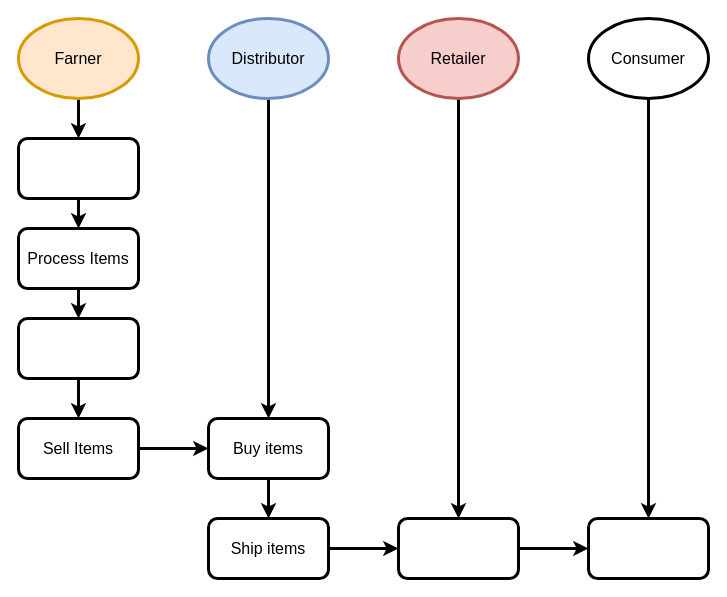
This 727x597 diagram has some shape labels left out. The shapes that lost their labels are listed below. From the top down, each one's box as (x1, y1, x2, y2) in pixels, then its label:
(16, 136, 140, 200): Harvest Items
(16, 316, 140, 380): Pack Items
(396, 516, 520, 580): Receive items
(586, 516, 710, 580): Purchase items
